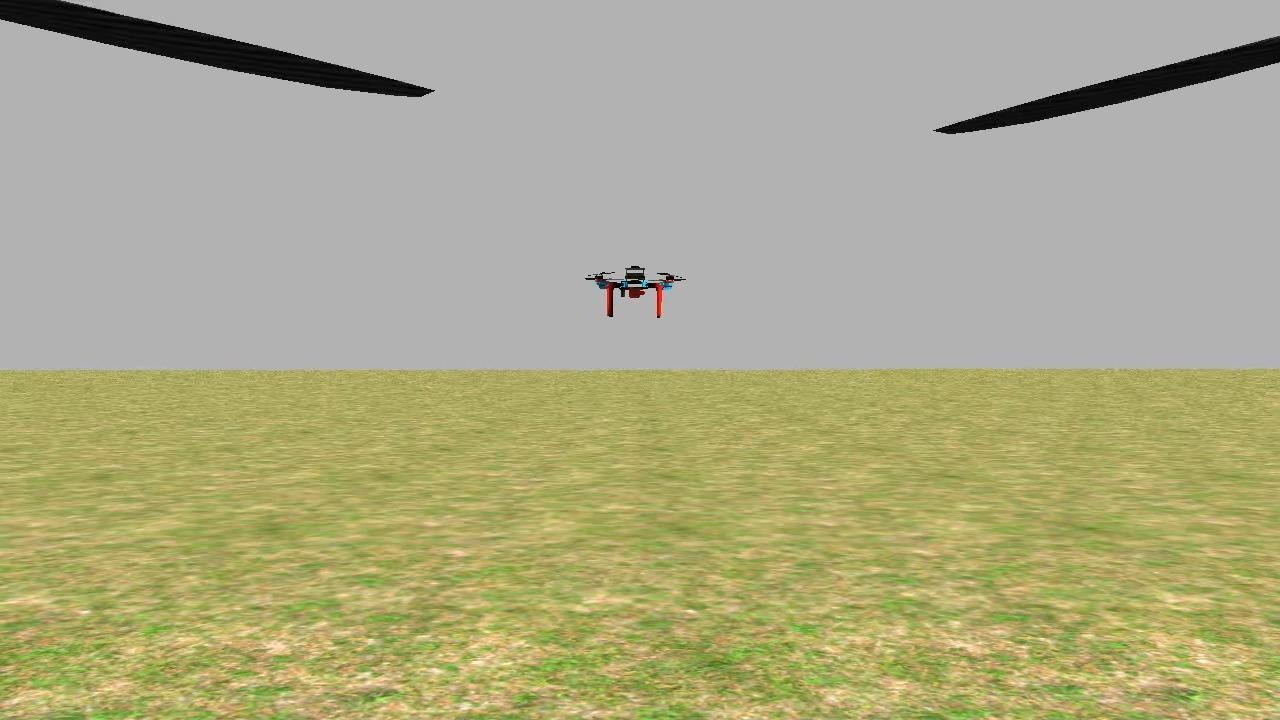UAV: (585, 255, 678, 324)
